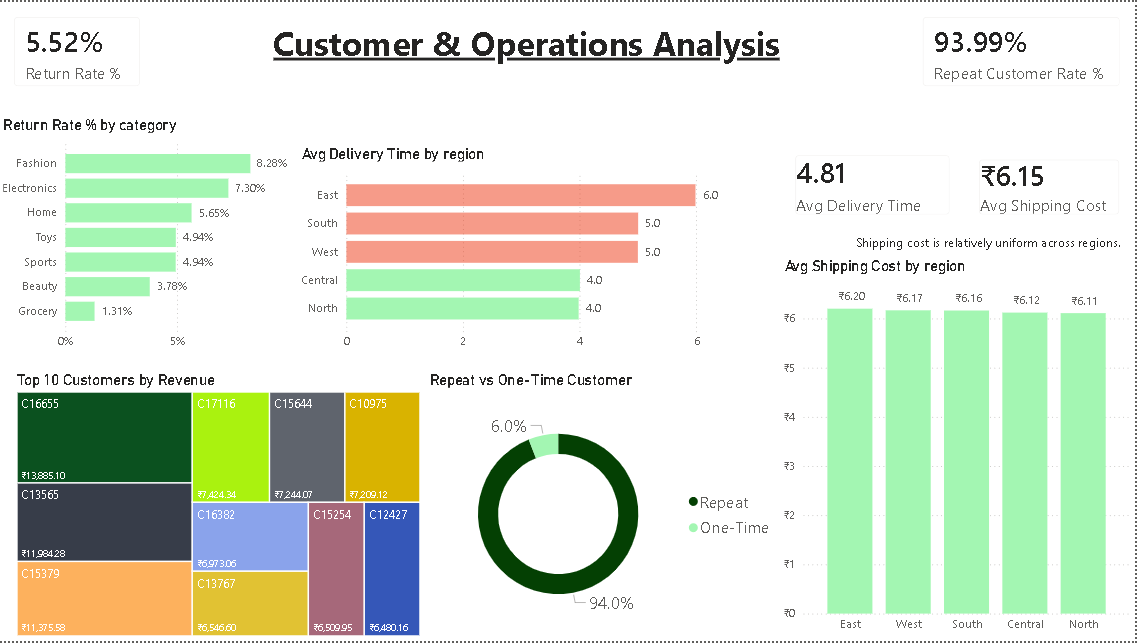

The dashboard page shown, as its layout file describes it:
{"tool":"powerbi","page":{"name":"Page 2","canvas":[1280,720],"ordinal":1},"visuals":[{"type":"treemap","title":"Top 10 Customers by Revenue","fields":{"Group":["orders.customer_id"],"Values":["orders.Total revenue"]},"box":[16,416,464,304],"z":0},{"type":"barChart","fields":{"Y":["orders.Return Rate %"],"Category":["orders.category"]},"box":[0,128,336,272],"z":1000},{"type":"barChart","fields":{"Y":["orders.Avg Delivery Time"],"Category":["orders.region"]},"box":[336,160,544,240],"z":2000},{"type":"textbox","box":[960,256,320,32],"z":2500},{"type":"columnChart","fields":{"Category":["orders.region"],"Y":["orders.Avg Shipping Cost"]},"box":[880,288,400,432],"z":3000},{"type":"cardVisual","fields":{"Data":["orders.Return Rate %"]},"box":[0,0,176,112],"z":3001},{"type":"cardVisual","fields":{"Data":["orders.Avg Delivery Time"]},"box":[880,160,208,96],"z":3002},{"type":"cardVisual","fields":{"Data":["orders.Avg Shipping Cost"]},"box":[1088,160,192,96],"z":3003},{"type":"textbox","box":[304,16,608,64],"z":3004},{"type":"donutChart","title":"Repeat vs One-Time Customer","fields":{"Category":["orders.Customer Type"],"Y":["Count(orders.customer_id)"]},"box":[480,416,400,304],"z":3005},{"type":"cardVisual","fields":{"Data":["orders.Repeat Customer Rate %"]},"box":[1024,0,256,112],"z":3006}]}

Visuals, with their boxes in screenshot pixels (x1, y1, x2, y2), scaled from the page's 1280x720 canvas onto the 1138x644 screenshot:
"Top 10 Customers by Revenue" treemap: 14/372/427/643
barChart - orders.Return Rate % x orders.category: 0/114/299/358
barChart - orders.Avg Delivery Time x orders.region: 299/143/782/358
textbox: 854/229/1137/258
columnChart - orders.region x orders.Avg Shipping Cost: 782/258/1137/643
cardVisual - orders.Return Rate %: 0/0/156/100
cardVisual - orders.Avg Delivery Time: 782/143/967/229
cardVisual - orders.Avg Shipping Cost: 967/143/1137/229
textbox: 270/14/811/72
"Repeat vs One-Time Customer" donutChart: 427/372/782/643
cardVisual - orders.Repeat Customer Rate %: 910/0/1137/100
